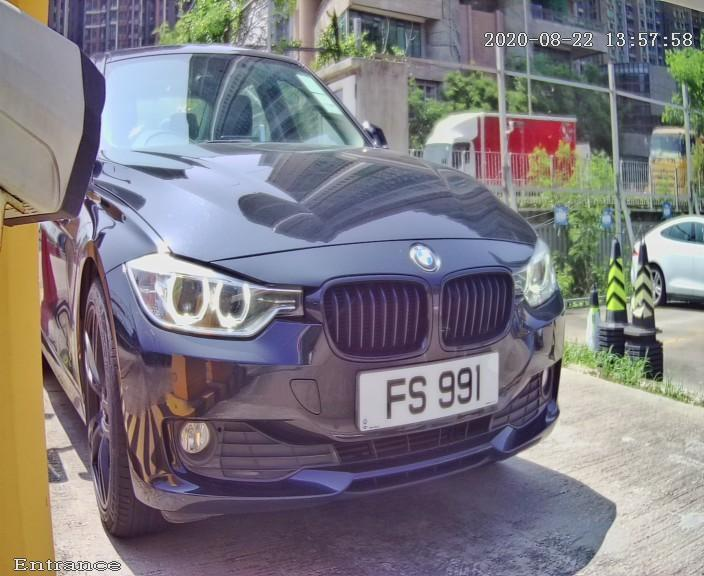Car: (19, 19, 607, 553)
License Plate: (326, 312, 524, 457)
